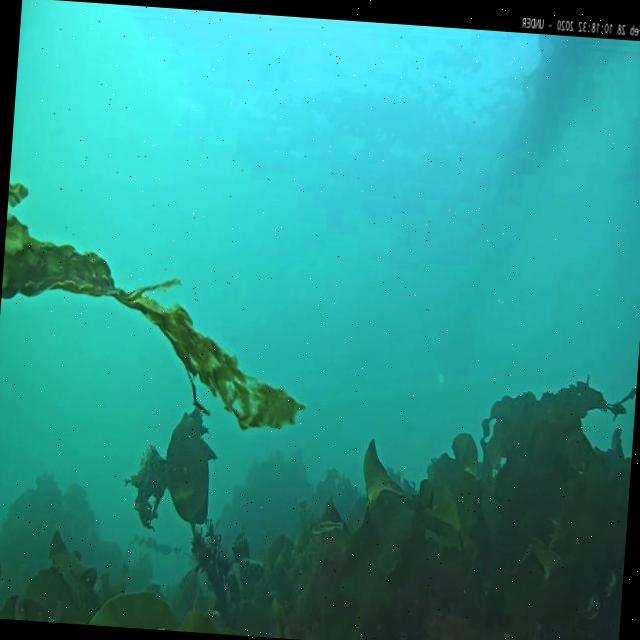fish: (310, 519, 346, 537)
